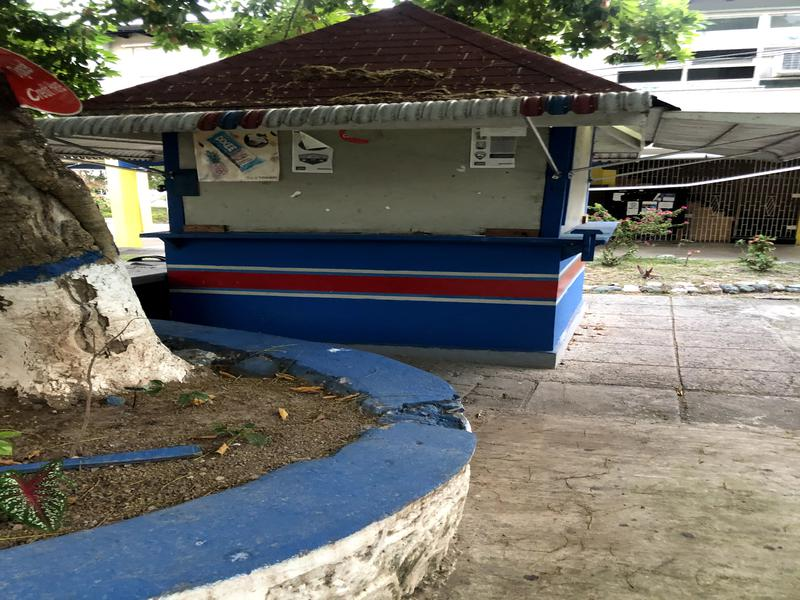18.0050609_-76.7496662_auntyjackie: (32, 3, 791, 389)
